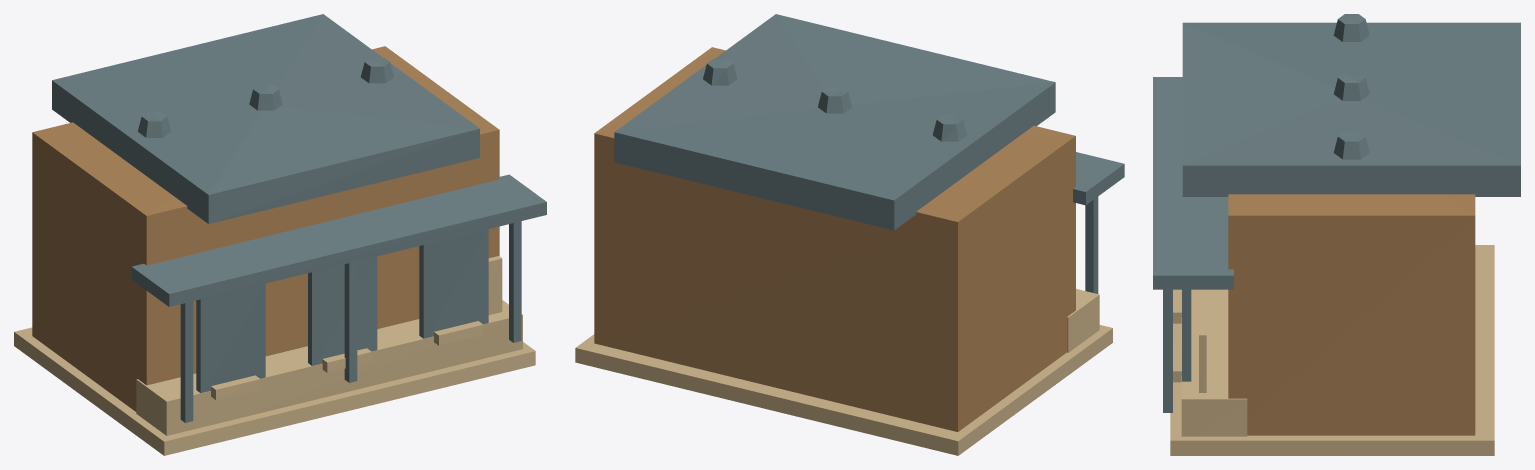
Rendered from distribution-warehouse.source.glb.
3 views of the same model, side by side, from view 1: azimuth 30°, elevation 25°; view 2: azimuth 150°, elevation 25°; view 3: azimuth 270°, elevation 25° (orthographic). The views are drawn at different scales.
Parts seen in each view (by area): view 1: distribution-warehouse-low-gable-roof-mesh, distribution-warehouse-warehouse-main-volume-mesh, distribution-warehouse-broad-loading-canopy-mesh, distribution-warehouse-raised-loading-dock-mesh, distribution-warehouse-broad-concrete-foundation-mesh, distribution-warehouse-loading-bay-1.8-mesh, distribution-warehouse-loading-bay--1.8-mesh, distribution-warehouse-loading-bay-0-mesh, distribution-warehouse-canopy-support--2.65-mesh, distribution-warehouse-canopy-support-0-mesh, distribution-warehouse-canopy-support-2.65-mesh, distribution-warehouse-side-service-door-mesh (+6 smaller); view 2: distribution-warehouse-warehouse-main-volume-mesh, distribution-warehouse-low-gable-roof-mesh, distribution-warehouse-broad-concrete-foundation-mesh, distribution-warehouse-broad-loading-canopy-mesh, distribution-warehouse-raised-loading-dock-mesh, distribution-warehouse-canopy-support--2.65-mesh, distribution-warehouse-roof-vent--1.8-mesh, distribution-warehouse-roof-vent-0-mesh, distribution-warehouse-roof-vent-1.8-mesh; view 3: distribution-warehouse-warehouse-main-volume-mesh, distribution-warehouse-low-gable-roof-mesh, distribution-warehouse-broad-concrete-foundation-mesh, distribution-warehouse-broad-loading-canopy-mesh, distribution-warehouse-raised-loading-dock-mesh, distribution-warehouse-canopy-support-2.65-mesh, distribution-warehouse-loading-bay-1.8-mesh, distribution-warehouse-roof-vent-1.8-mesh, distribution-warehouse-roof-vent-0-mesh, distribution-warehouse-roof-vent--1.8-mesh, distribution-warehouse-side-service-door-mesh.
Part boxes in pixels (x1,y1,x2,y2): distribution-warehouse-low-gable-roof-mesh: [52, 14, 479, 223]; distribution-warehouse-warehouse-main-volume-mesh: [32, 46, 499, 411]; distribution-warehouse-broad-loading-canopy-mesh: [131, 174, 546, 306]; distribution-warehouse-raised-loading-dock-mesh: [136, 300, 522, 435]; distribution-warehouse-broad-concrete-foundation-mesh: [14, 327, 535, 455]; distribution-warehouse-loading-bay-1.8-mesh: [419, 229, 488, 338]; distribution-warehouse-loading-bay--1.8-mesh: [196, 283, 265, 392]; distribution-warehouse-loading-bay-0-mesh: [308, 256, 377, 365]; distribution-warehouse-canopy-support--2.65-mesh: [180, 301, 193, 422]; distribution-warehouse-canopy-support-0-mesh: [344, 261, 357, 382]; distribution-warehouse-canopy-support-2.65-mesh: [509, 221, 521, 342]; distribution-warehouse-side-service-door-mesh: [488, 256, 502, 314]; distribution-warehouse-warehouse-main-volume-mesh: [594, 47, 1075, 431]; distribution-warehouse-low-gable-roof-mesh: [614, 14, 1055, 230]; distribution-warehouse-broad-concrete-foundation-mesh: [575, 325, 1112, 455]; distribution-warehouse-broad-loading-canopy-mesh: [1073, 152, 1124, 205]; distribution-warehouse-raised-loading-dock-mesh: [1067, 289, 1099, 352]; distribution-warehouse-canopy-support--2.65-mesh: [1085, 196, 1098, 293]; distribution-warehouse-roof-vent--1.8-mesh: [932, 114, 966, 141]; distribution-warehouse-roof-vent-0-mesh: [818, 86, 851, 113]; distribution-warehouse-roof-vent-1.8-mesh: [703, 58, 737, 85]; distribution-warehouse-warehouse-main-volume-mesh: [1228, 194, 1475, 435]; distribution-warehouse-low-gable-roof-mesh: [1182, 22, 1520, 196]; distribution-warehouse-broad-concrete-foundation-mesh: [1170, 245, 1494, 455]; distribution-warehouse-broad-loading-canopy-mesh: [1153, 77, 1233, 289]; distribution-warehouse-raised-loading-dock-mesh: [1181, 289, 1247, 436]; distribution-warehouse-canopy-support-2.65-mesh: [1163, 289, 1172, 412]; distribution-warehouse-loading-bay-1.8-mesh: [1182, 289, 1191, 381]; distribution-warehouse-roof-vent-1.8-mesh: [1333, 131, 1369, 159]; distribution-warehouse-roof-vent-0-mesh: [1334, 72, 1369, 100]; distribution-warehouse-roof-vent--1.8-mesh: [1333, 14, 1369, 41]; distribution-warehouse-side-service-door-mesh: [1199, 314, 1206, 392].
Size of the model in its own units: 6.1 by 4.01 by 4.77.
